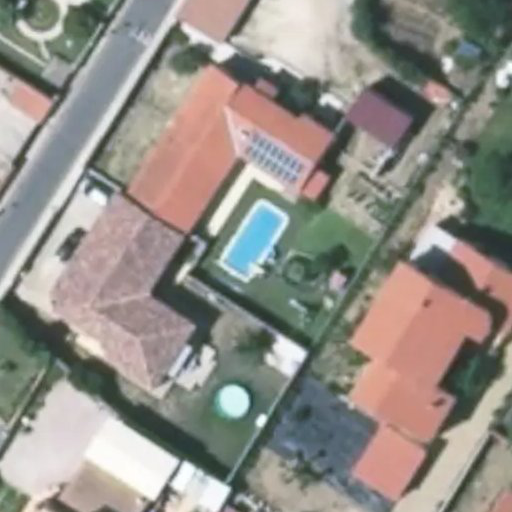pool: (217, 204, 288, 279), (212, 385, 251, 420)
